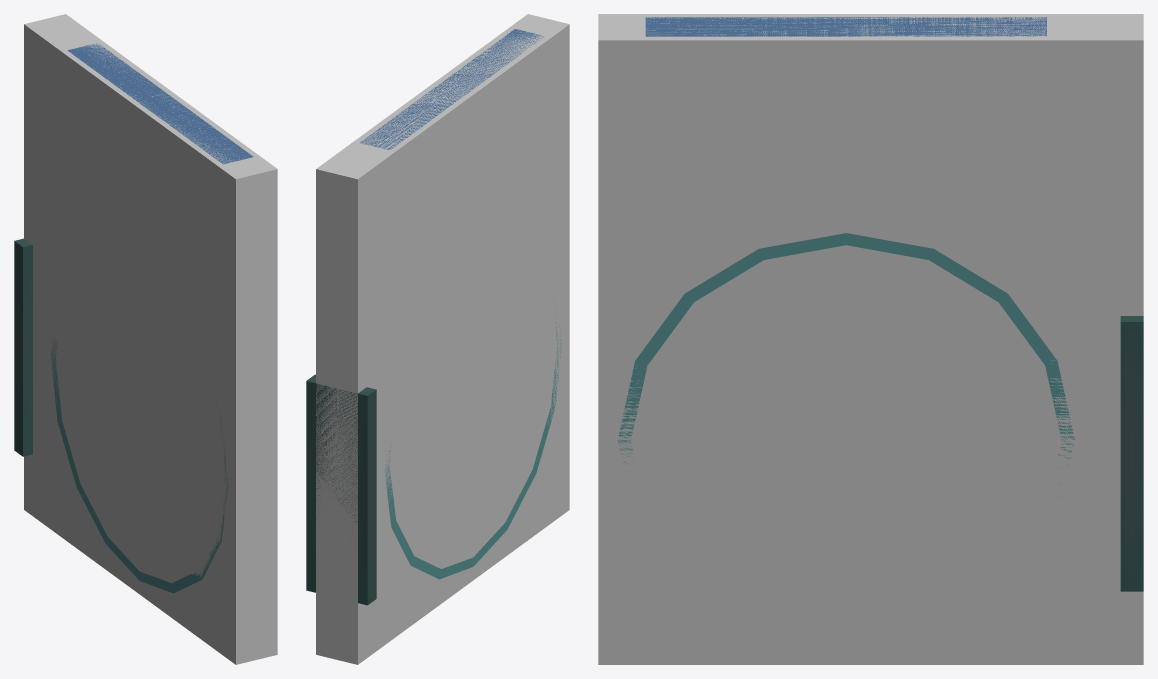
Rendered from SM_Billboard_11.fbx.
3 views of the same model, side by side, from view 1: azimuth 30°, elevation 25°; view 2: azimuth 150°, elevation 25°; view 3: azimuth 270°, elevation 25° (orthographic). The views are drawn at different scales.
Visible parts, largest first — view 1: SM_Billboard_11_ConvexHulls, SM_Billboard_11; view 2: SM_Billboard_11_ConvexHulls, SM_Billboard_11; view 3: SM_Billboard_11_ConvexHulls, SM_Billboard_11.
Boxes of the visible parts, <box> form: SM_Billboard_11_ConvexHulls: <box>24,14,277,664</box>; SM_Billboard_11: <box>14,43,253,593</box>; SM_Billboard_11_ConvexHulls: <box>316,14,569,664</box>; SM_Billboard_11: <box>306,29,561,605</box>; SM_Billboard_11_ConvexHulls: <box>598,14,1143,664</box>; SM_Billboard_11: <box>618,17,1143,591</box>.
Bounding box in the file's own units: 40 × 238 × 301.
2 materials, 1 textured.
